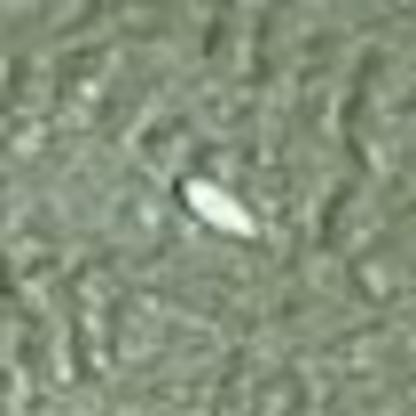ship: (167, 165, 266, 242)
